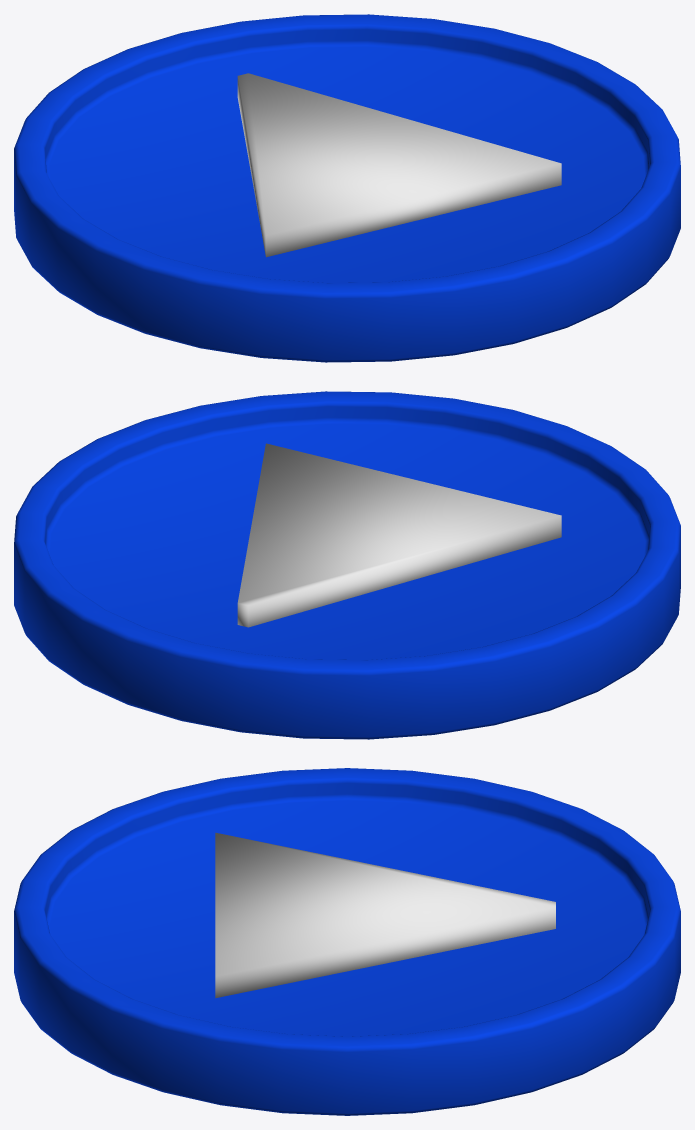
The model's file is botaoPlay.glb.
3 renders of one model, top to bottom at view 1: azimuth 30°, elevation 25°; view 2: azimuth 150°, elevation 25°; view 3: azimuth 270°, elevation 25°, orthographic.
Parts seen in each view (by area): view 1: Cylinder; view 2: Cylinder; view 3: Cylinder.
Part boxes in pixels (<box>): Cylinder: <box>14,14,680,362</box>; Cylinder: <box>14,391,680,739</box>; Cylinder: <box>14,768,680,1115</box>.
Size of the model in its own units: 3.92 by 0.4683 by 3.92.
